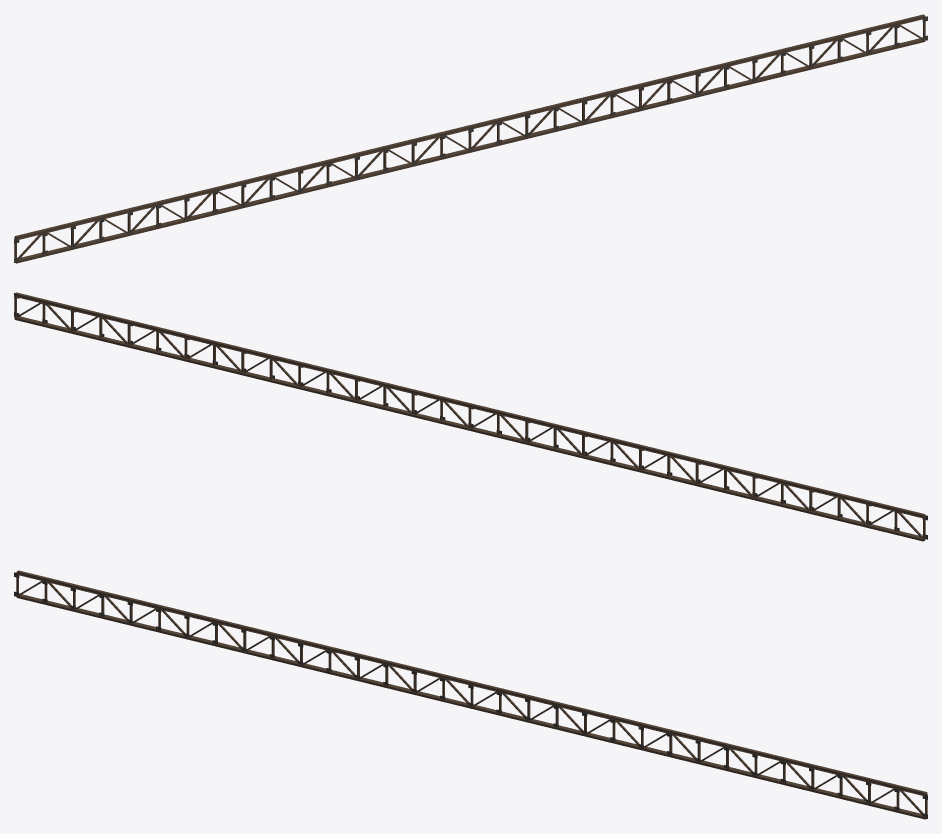
The model's file is tr_truss.glb.
3 renders of one model, top to bottom at view 1: azimuth 30°, elevation 25°; view 2: azimuth 150°, elevation 25°; view 3: azimuth 330°, elevation 25°, orthographic.
Visible parts, largest first — view 1: tr_truss; view 2: tr_truss; view 3: tr_truss.
Boxes of the visible parts, left/top/right/bottom form: tr_truss: left=14, top=14, right=927, bottom=263; tr_truss: left=14, top=292, right=927, bottom=541; tr_truss: left=14, top=570, right=927, bottom=819.
Size of the model in its own units: 64.36 by 1.76 by 0.3378.
